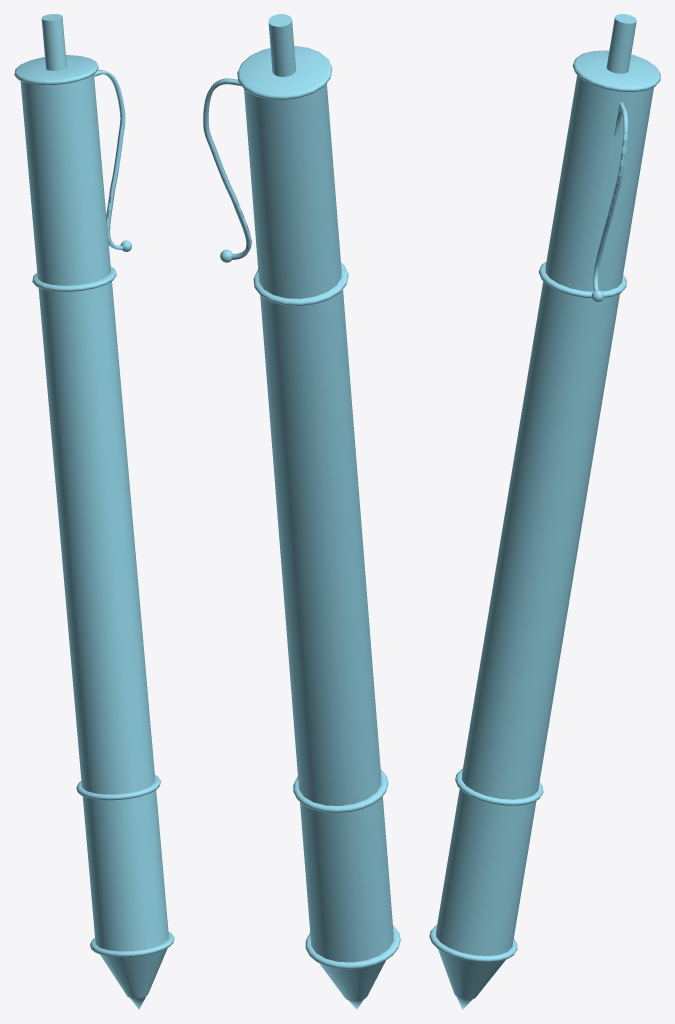
File: pen2.fbx
3 views of the same model, side by side, from view 1: azimuth 30°, elevation 25°; view 2: azimuth 150°, elevation 25°; view 3: azimuth 270°, elevation 25° (orthographic). The views are drawn at different scales.
Visible parts, largest first — view 1: pen2; view 2: pen2; view 3: pen2.
Part boxes in pixels (<box>): pen2: <box>14,14,174,1009</box>; pen2: <box>203,14,400,1009</box>; pen2: <box>429,14,660,1009</box>.
Bounding box in the file's own units: 9.55 × 80.33 × 17.05.
